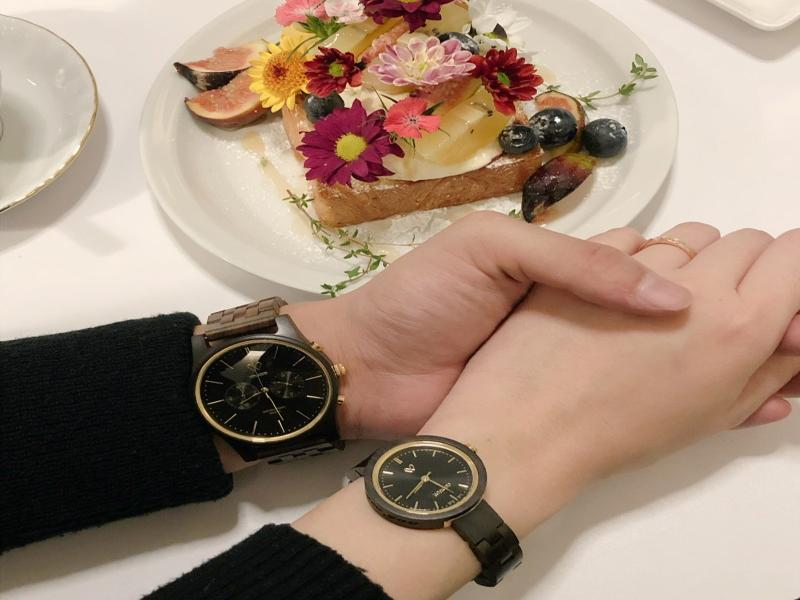watch: (353, 432, 529, 589), (192, 294, 346, 466)
